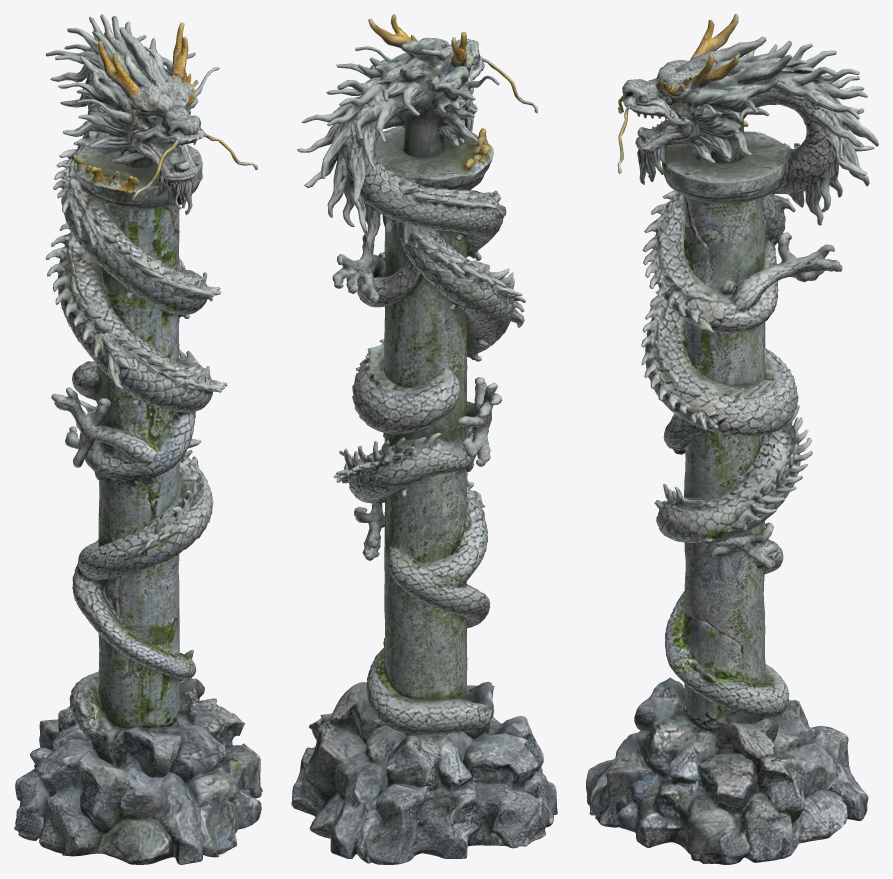
The model's file is dragon_pillar.glb.
3 renders of one model, left to right at view 1: azimuth 30°, elevation 25°; view 2: azimuth 150°, elevation 25°; view 3: azimuth 270°, elevation 25°, orthographic.
Parts seen in each view (by area): view 1: clean; view 2: clean; view 3: clean.
Boxes of the visible parts, box(x1,y1,x2,y2) form: clean: box(14, 14, 262, 864); clean: box(291, 14, 557, 864); clean: box(586, 14, 878, 864).
Size of the model in its own units: 48.61 by 150 by 51.01.
1 material, 1 textured.
